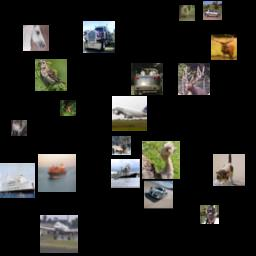airplane: (40, 215, 78, 253), (112, 96, 147, 131)
automobile: (131, 63, 163, 95), (144, 180, 173, 209), (203, 1, 222, 20)
bird: (142, 141, 180, 179), (35, 59, 67, 91)
cat: (213, 154, 245, 186), (200, 205, 219, 224)
deer: (178, 63, 210, 95), (211, 34, 237, 60), (112, 136, 131, 155), (179, 5, 195, 21), (60, 100, 76, 116), (11, 120, 27, 136)
ship: (38, 154, 76, 192), (0, 163, 35, 198), (111, 159, 140, 188)
truck: (83, 21, 115, 53)
